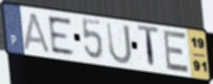5: (81, 17, 105, 63)
A: (22, 11, 52, 55)
E: (163, 29, 191, 75), (46, 15, 76, 57)
T: (136, 24, 160, 72)
U: (105, 21, 134, 66)
